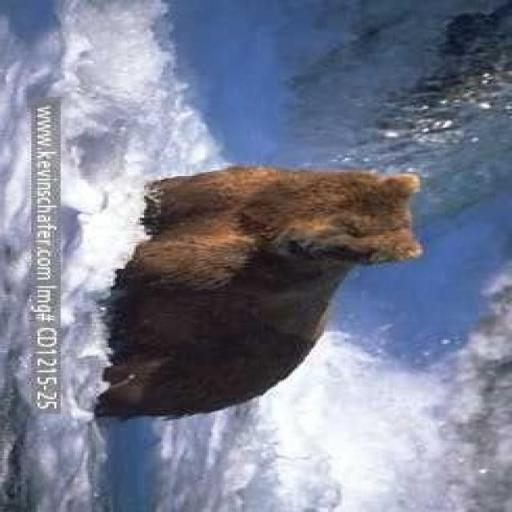Bear: (90, 162, 425, 421)
